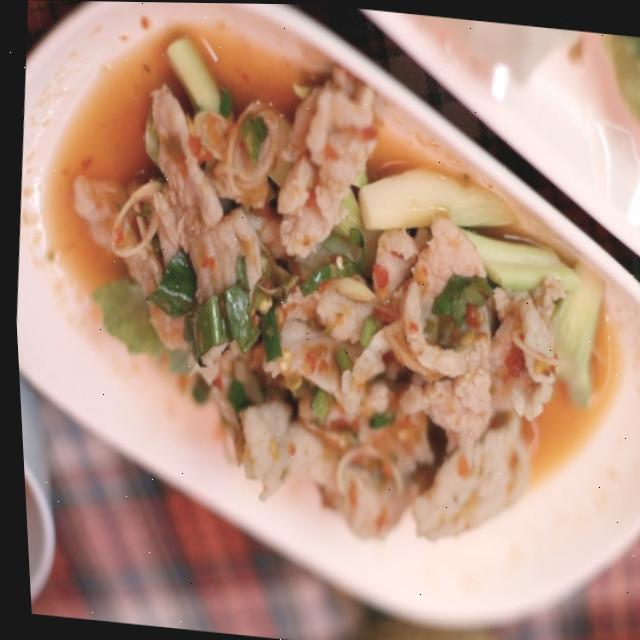猪肉菜式: (0, 11, 640, 628)
